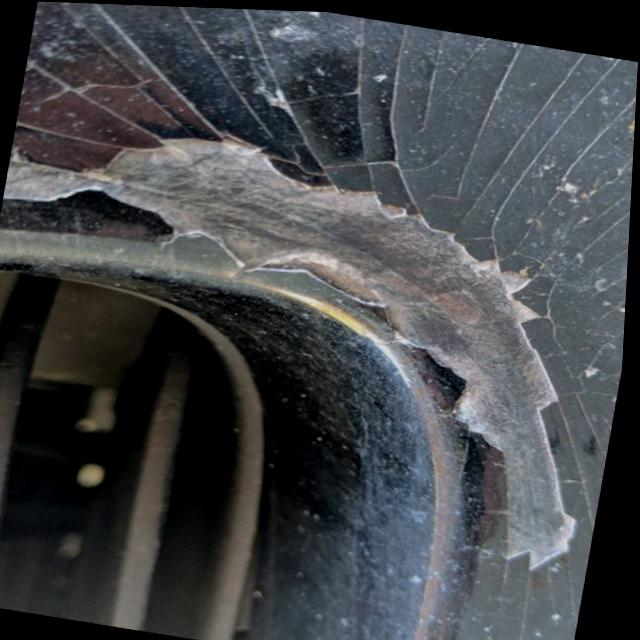Paint-Crack: (2, 1, 638, 640)
